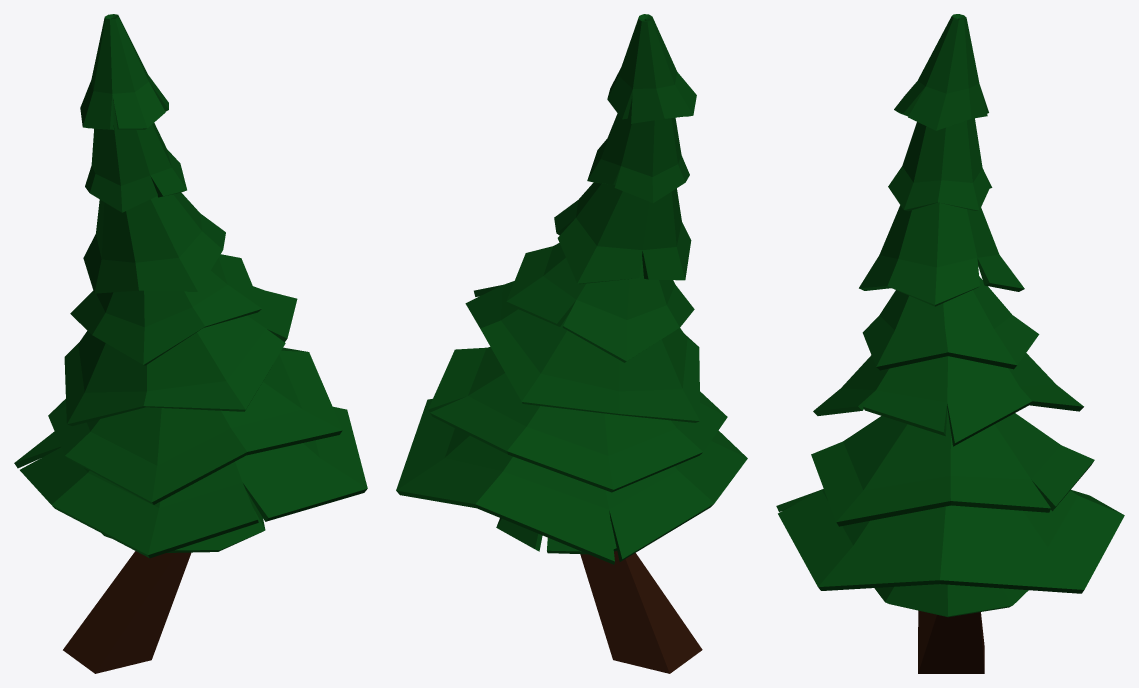
File: tree1.fbx
The picture shows the model from 3 angles, left to right: view 1: azimuth 30°, elevation 25°; view 2: azimuth 150°, elevation 25°; view 3: azimuth 270°, elevation 25°; orthographic projection. The views are drawn at different scales.
Visible parts, largest first — view 1: Circle; view 2: Circle; view 3: Circle.
Boxes of the visible parts, bbox=[...] form: Circle: bbox=[14, 14, 367, 673]; Circle: bbox=[396, 14, 747, 673]; Circle: bbox=[776, 14, 1124, 673].
Size of the model in its own units: 201 by 420 by 205.
